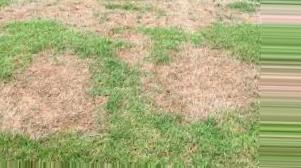patch: (4, 55, 89, 135), (158, 47, 226, 109), (16, 1, 108, 28), (140, 2, 221, 19)
